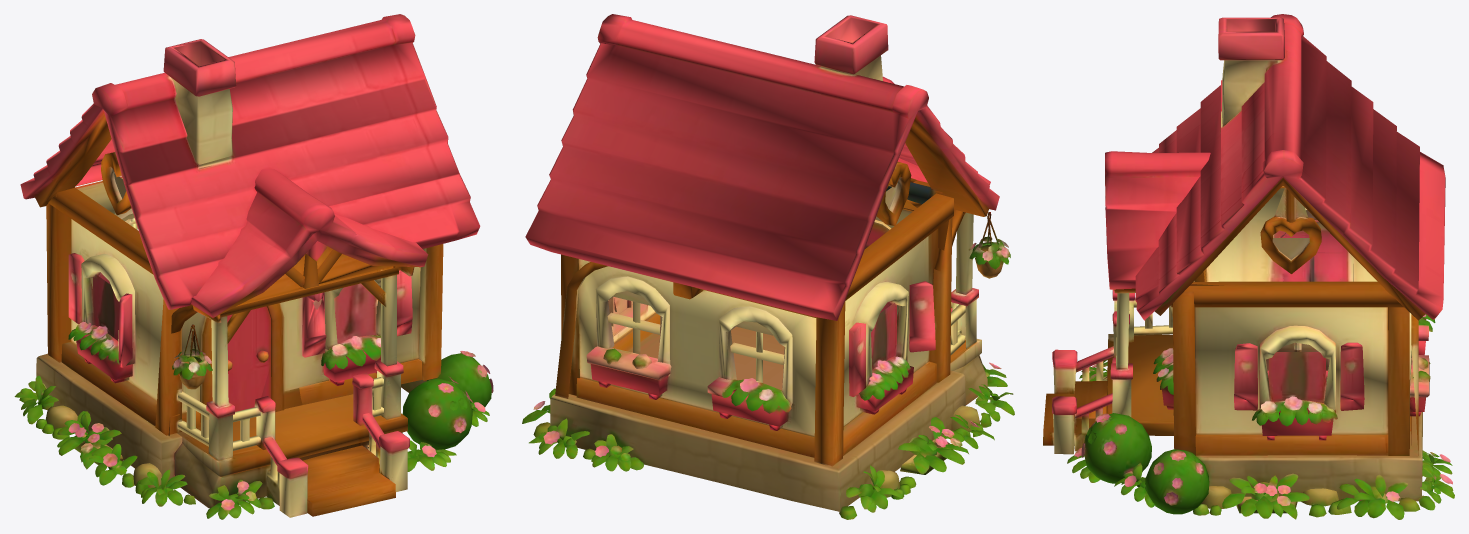
3 views of the same model, side by side, from view 1: azimuth 30°, elevation 25°; view 2: azimuth 150°, elevation 25°; view 3: azimuth 270°, elevation 25° (orthographic). The views are drawn at different scales.
Parts seen in each view (by area): view 1: house-tier2; view 2: house-tier2; view 3: house-tier2.
Boxes of the visible parts, <box> form: house-tier2: <box>14,14,493,519</box>; house-tier2: <box>522,14,1014,519</box>; house-tier2: <box>1043,14,1454,519</box>.
Bounding box in the file's own units: 5.75 × 5.66 × 5.56.
Materials: 1 (1 with a texture image).
